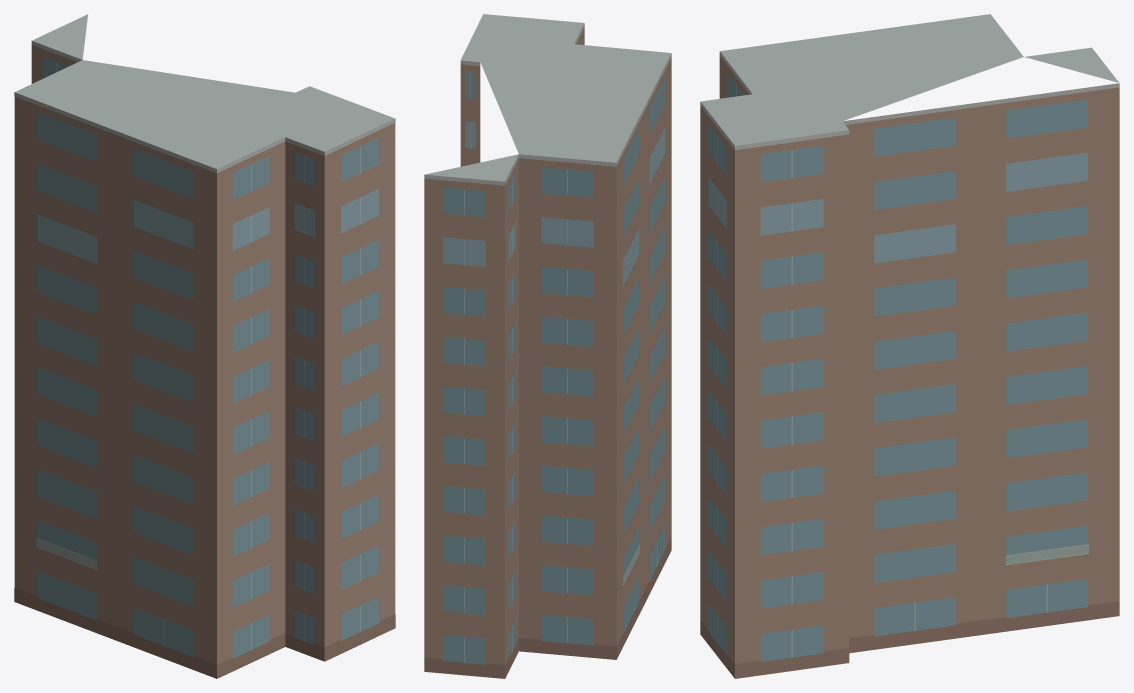
Rendered from survey-upis-32560919.glb.
3 renders of one model, left to right at view 1: azimuth 30°, elevation 25°; view 2: azimuth 150°, elevation 25°; view 3: azimuth 270°, elevation 25°, orthographic. The views are drawn at different scales.
Parts seen in each view (by area): view 1: survey-upis-32560919.tmp; view 2: survey-upis-32560919.tmp; view 3: survey-upis-32560919.tmp.
Part boxes in pixels (x1,y1,x2,y2): survey-upis-32560919.tmp: (14,14,395,678); survey-upis-32560919.tmp: (424,14,671,678); survey-upis-32560919.tmp: (700,14,1119,678).
Bounding box in the file's own units: 16.22 × 30.5 × 21.75.
